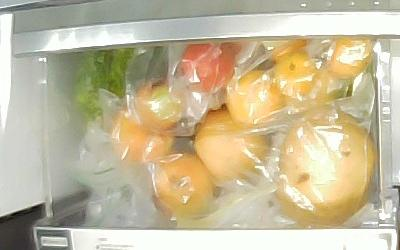peach_vinyl: (153, 153, 212, 217), (110, 105, 173, 162)
pear_vinyl: (274, 110, 376, 229), (194, 108, 270, 183)
tangerine_vinyl: (225, 70, 282, 124), (324, 37, 372, 78), (272, 54, 318, 95), (286, 71, 334, 110), (266, 38, 308, 61)
tomato_vinyl: (179, 44, 234, 91), (135, 81, 182, 131)
